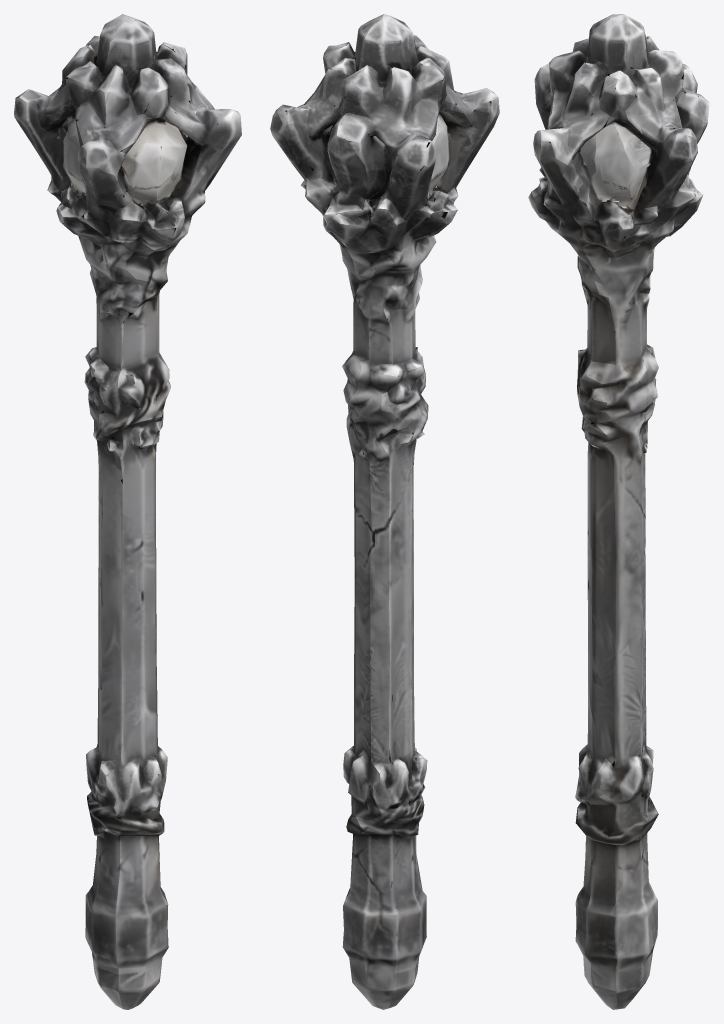
File: SM_Staff_Stillwinter.FBX
3 renders of one model, left to right at view 1: azimuth 30°, elevation 25°; view 2: azimuth 150°, elevation 25°; view 3: azimuth 270°, elevation 25°, orthographic.
Parts seen in each view (by area): view 1: SM_Staff_Stillwinter; view 2: SM_Staff_Stillwinter; view 3: SM_Staff_Stillwinter.
Part boxes in pixels (x1=…): SM_Staff_Stillwinter: x1=14, y1=14, x2=241, y2=1009; SM_Staff_Stillwinter: x1=270, y1=14, x2=499, y2=1009; SM_Staff_Stillwinter: x1=528, y1=14, x2=709, y2=1009.
Size of what is drawn, in the model's own units: 26.71 by 26.08 by 158.
